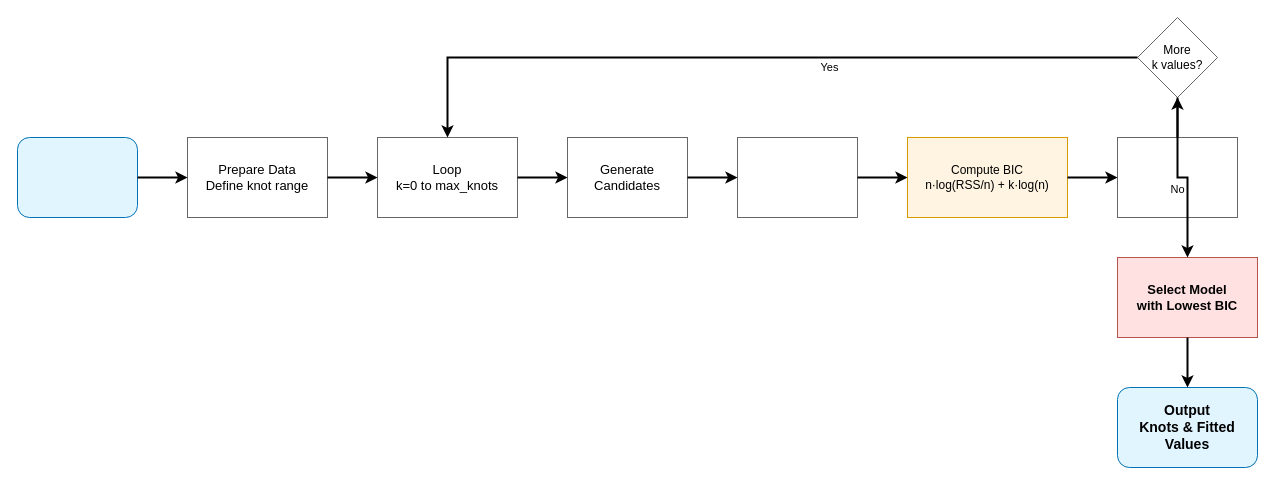
This 1275x485 diagram has some shape labels left out. Here are the shapes that lost their labels. From the top down, the box of each, then its label:
(16, 136, 138, 218): Time Series Data
(736, 136, 858, 218): Fit Models Calculate RSS
(1116, 136, 1238, 218): Keep Best for k knots
